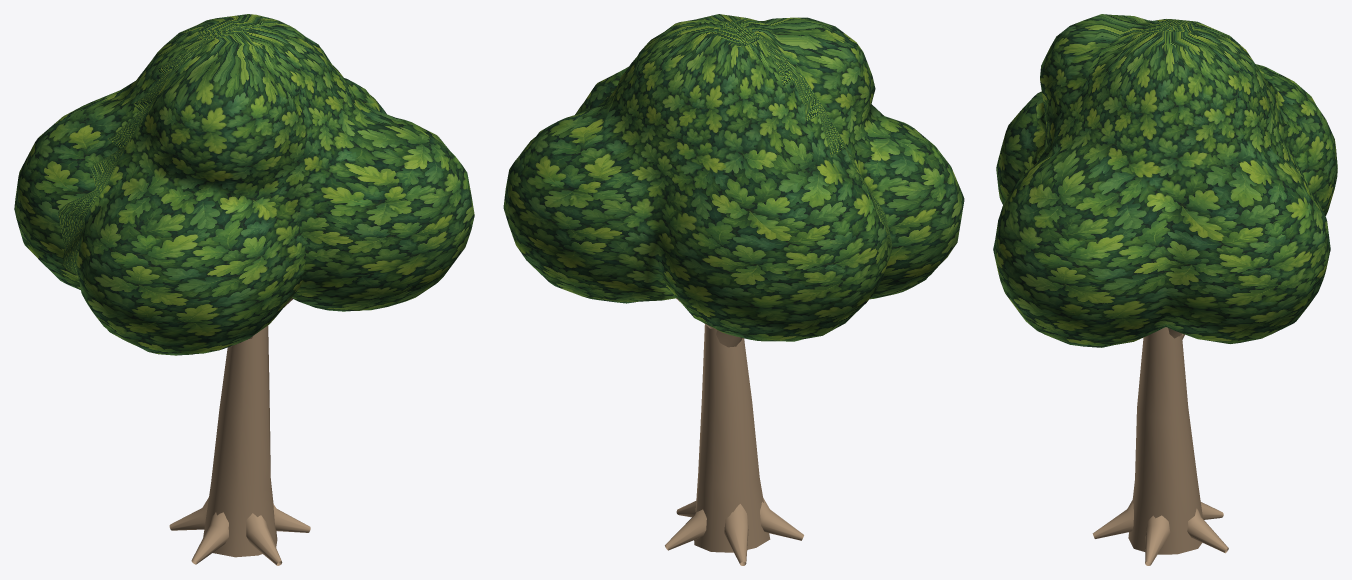
File: CarvalhoDaAurora.gltf
3 views of the same model, side by side, from view 1: azimuth 30°, elevation 25°; view 2: azimuth 150°, elevation 25°; view 3: azimuth 270°, elevation 25° (orthographic).
Parts seen in each view (by area): view 1: Copa, Tronco; view 2: Copa, Tronco; view 3: Copa, Tronco.
Boxes of the visible parts, x1,y1,x2,y2 form: Copa: (14,14,474,355); Tronco: (169,298,310,565); Copa: (503,14,964,341); Tronco: (665,298,803,565); Copa: (993,14,1337,347); Tronco: (1092,327,1228,565).
Size of the model in its own units: 16 by 21.1 by 12.91.
2 materials, 1 textured.
